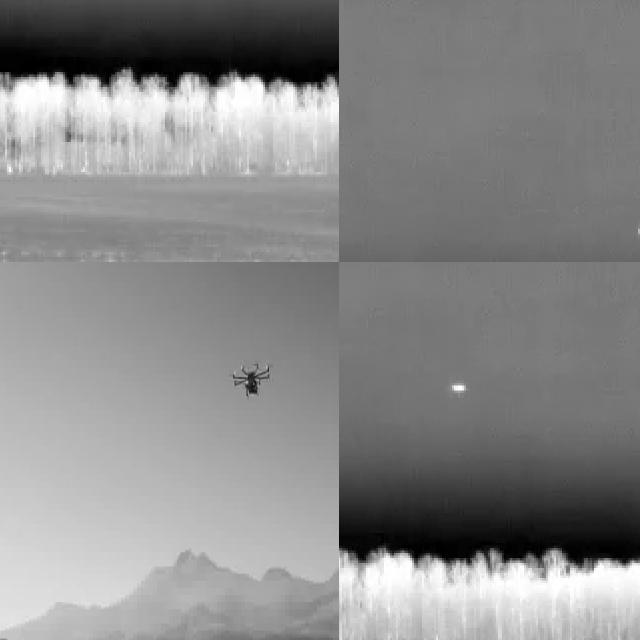1: (438, 376, 474, 406), (625, 221, 640, 244)
drone: (232, 350, 276, 400)
